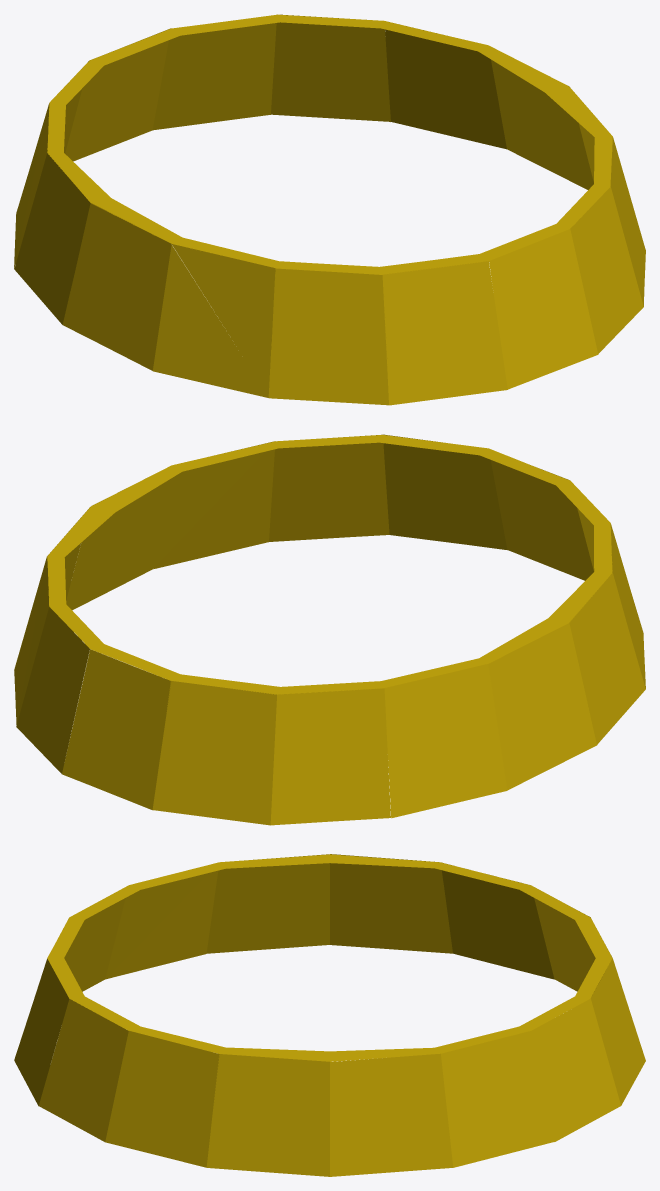
File: original-9.obj
3 views of the same model, one above another, from view 1: azimuth 30°, elevation 25°; view 2: azimuth 150°, elevation 25°; view 3: azimuth 270°, elevation 25° (orthographic). The views are drawn at different scales.
Visible parts, largest first — view 1: #ID57; view 2: #ID57; view 3: #ID57.
Boxes of the visible parts, x1,y1,x2,y2 form: #ID57: [14, 14, 645, 405]; #ID57: [14, 434, 645, 825]; #ID57: [14, 854, 645, 1176].
Size of the model in its own units: 0.201 by 0.0416 by 0.2312.
